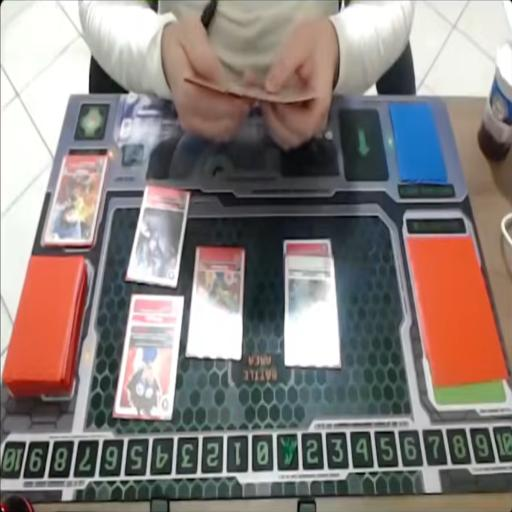card: (110, 295, 185, 421), (186, 242, 248, 361), (282, 256, 340, 365), (127, 190, 190, 287), (43, 156, 105, 246), (282, 238, 331, 258)
